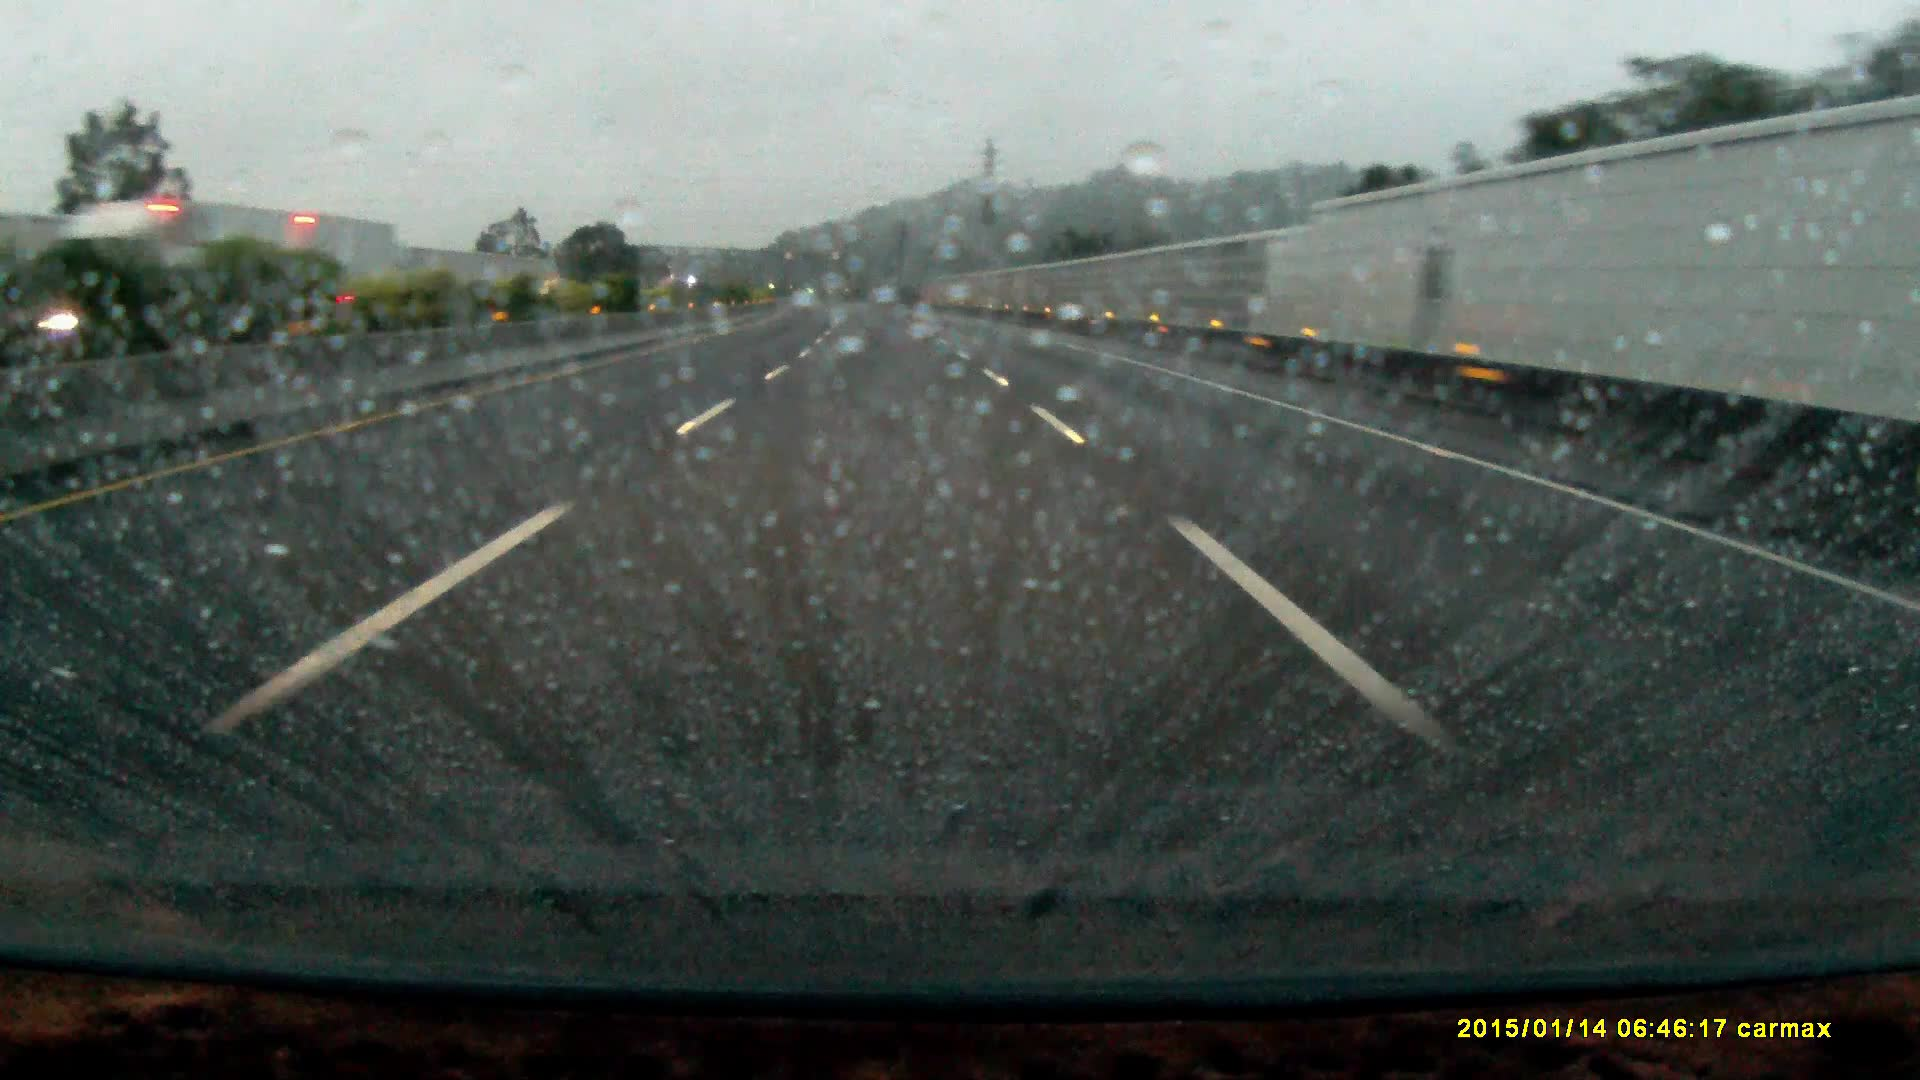vehicle: (80, 208, 375, 336)
